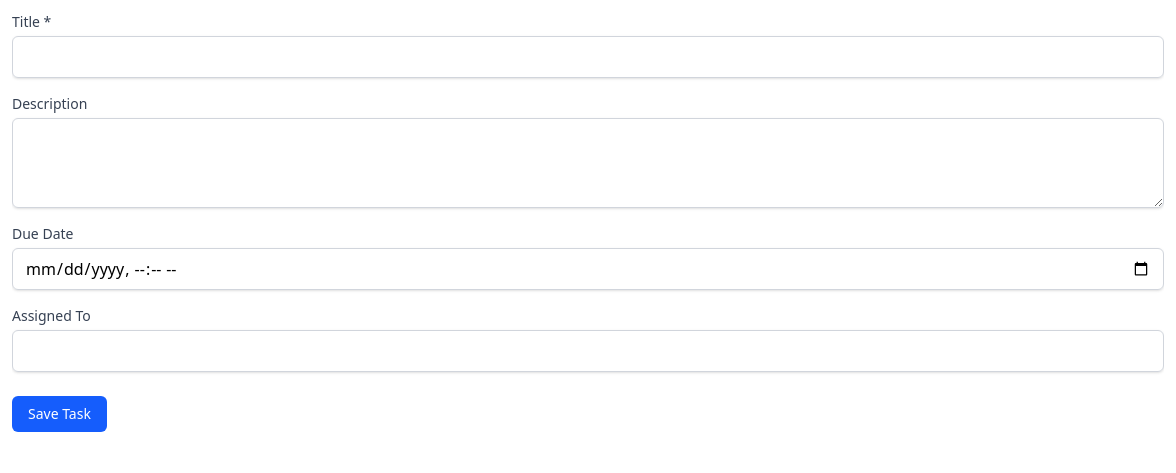
TaskForm › shows validation error when title is empty
The width and height of the screenshot is (1176, 473).
Click the button "Save Task": point(59, 414) [12,396,107,432]
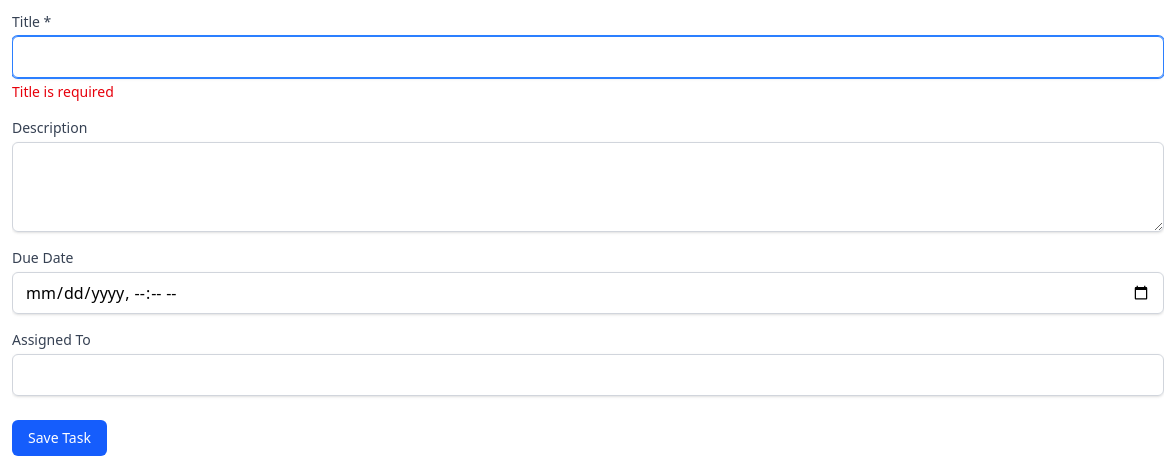
Expected: the text "Title is required" is shown, [12,82,114,101]
